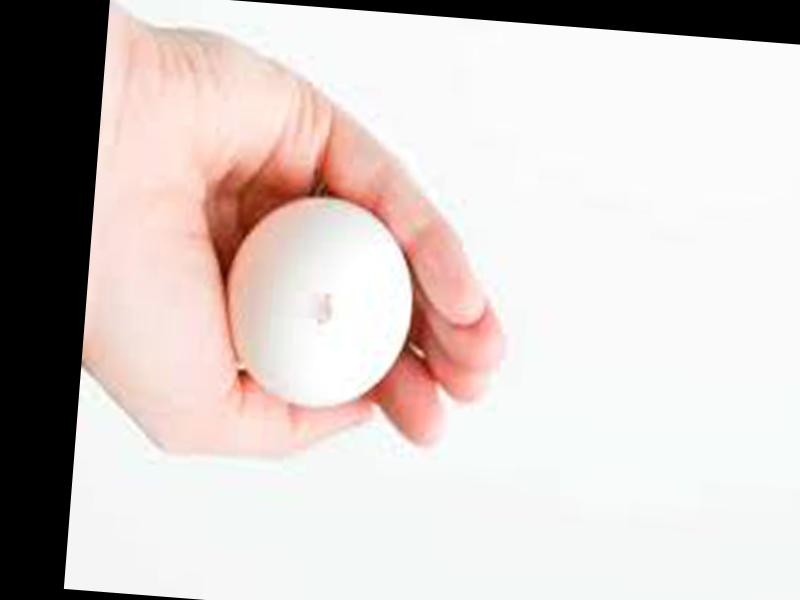Eggs: (222, 194, 419, 407)
